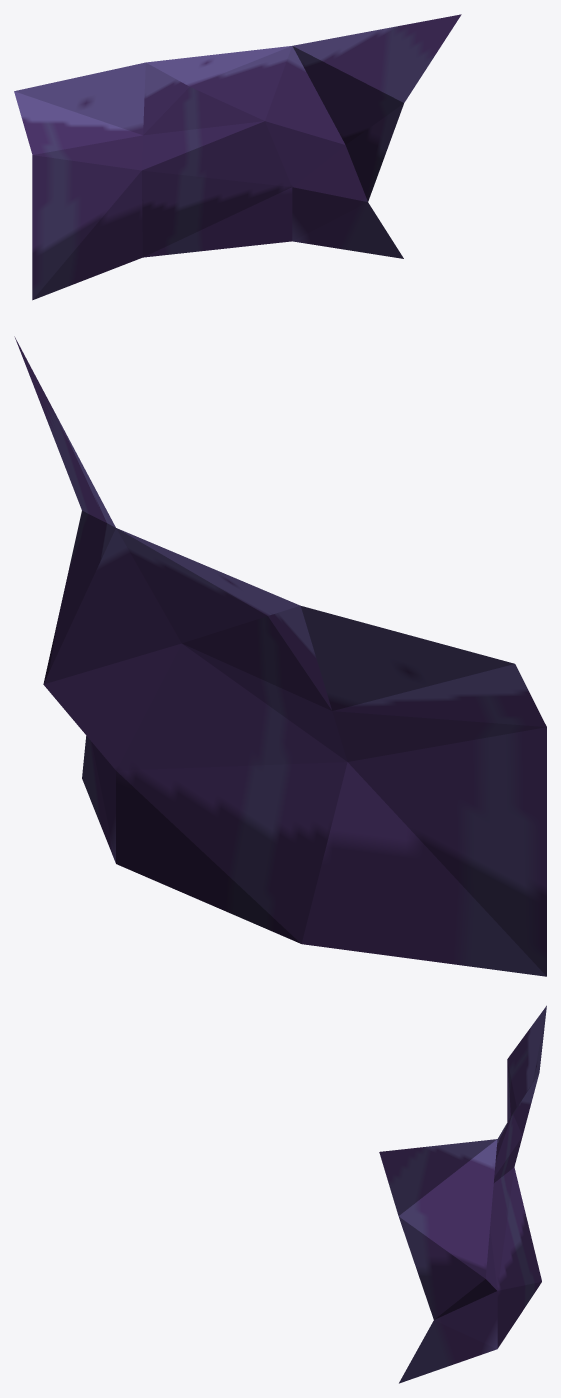
3 views of the same model, one above another, from view 1: azimuth 30°, elevation 25°; view 2: azimuth 150°, elevation 25°; view 3: azimuth 270°, elevation 25° (orthographic). The views are drawn at different scales.
Visible parts, largest first — view 1: Mapa Base; view 2: Mapa Base; view 3: Mapa Base.
Boxes of the visible parts, left/top/right/bottom form: Mapa Base: left=14, top=14, right=461, bottom=300; Mapa Base: left=14, top=336, right=546, bottom=976; Mapa Base: left=379, top=1005, right=546, bottom=1383.
Size of the model in its own units: 25775 by 29948 by 15954.
1 material, 1 textured.
